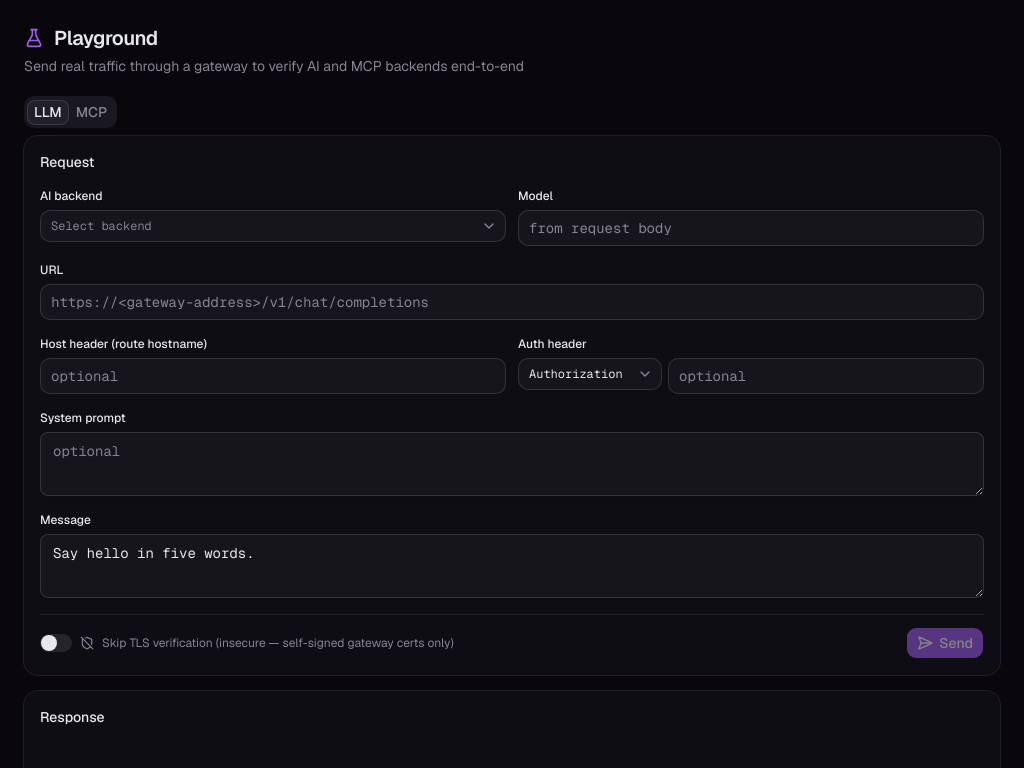
Test: PlaygroundPage › lists only AI backends and seeds url/model from the resolved endpoint
What coordinates should you click on to do the following:
click the dropdown labelled "Select backend"
I would click on:
 (101, 226)
Its box is top-left (40, 210), bottom-right (506, 242).
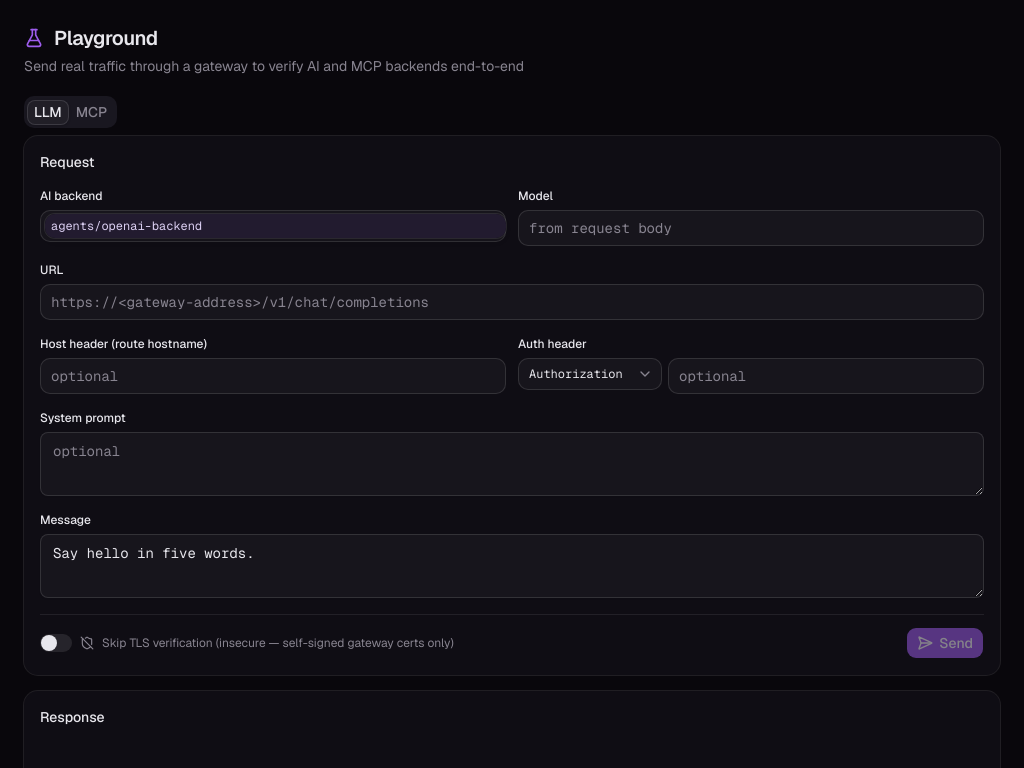
Check: the option "agents/openai-backend" is shown
What coordinates should you click on to do the following:
click the option "agents/openai-backend"
I would click on:
 (73, 226)
Its box is top-left (45, 214), bottom-right (506, 238).
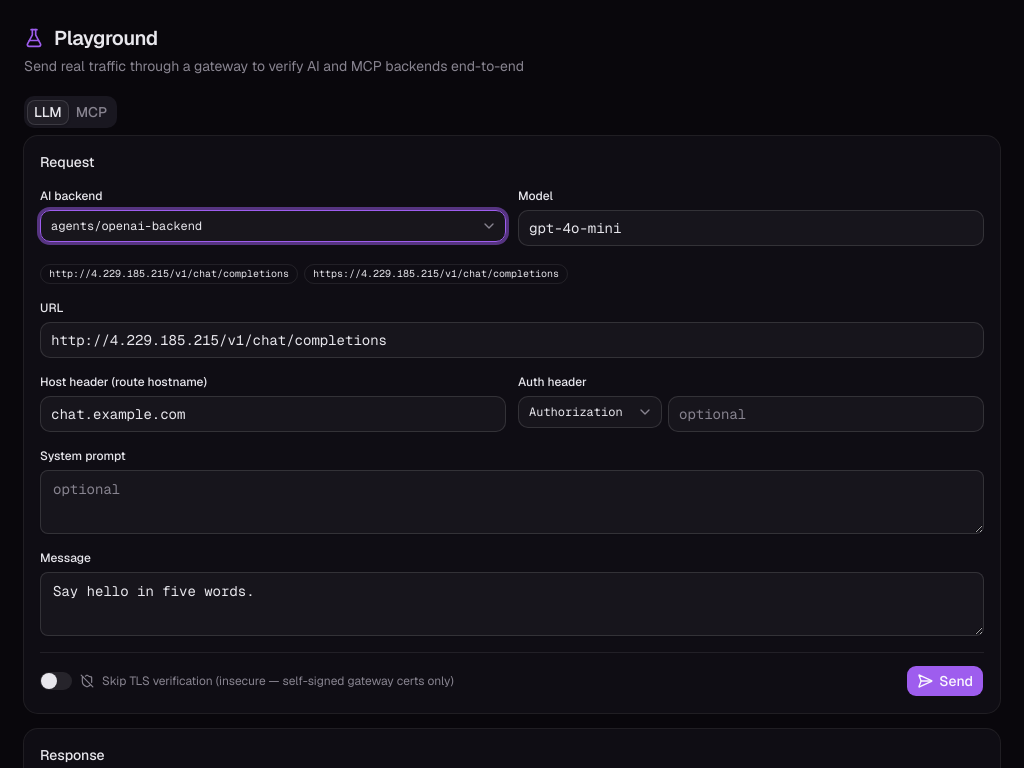
Check: the field showing "http://4.229.185.215/v1/chat/completions" below "URL" is shown, box top-left (40, 322), bottom-right (984, 358)
Check: the field showing "chat.example.com" below "Host header (route hostname)" is shown, box top-left (40, 396), bottom-right (506, 432)
Check: the field showing "gpt-4o-mini" below "Model" is shown, box top-left (518, 210), bottom-right (984, 246)
